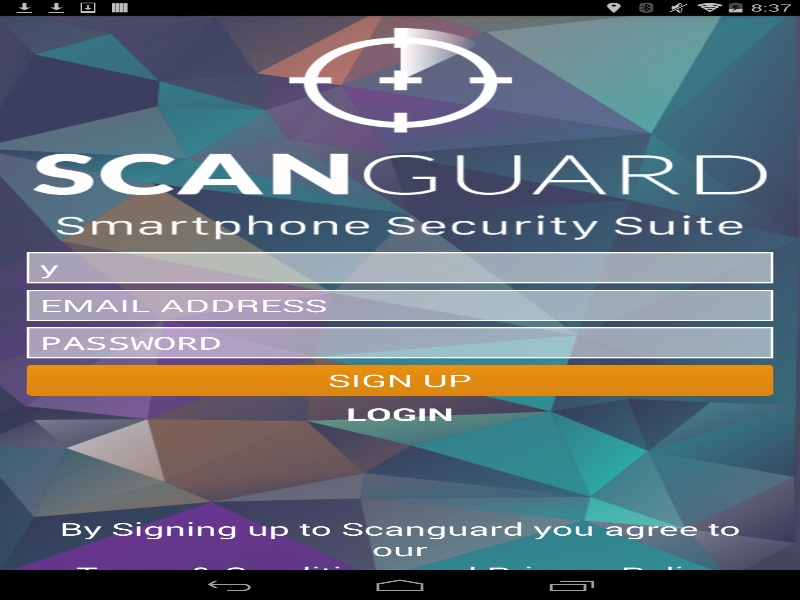Button: (26, 364, 773, 395)
Input: (26, 252, 773, 283), (26, 289, 773, 320), (26, 327, 773, 358)
